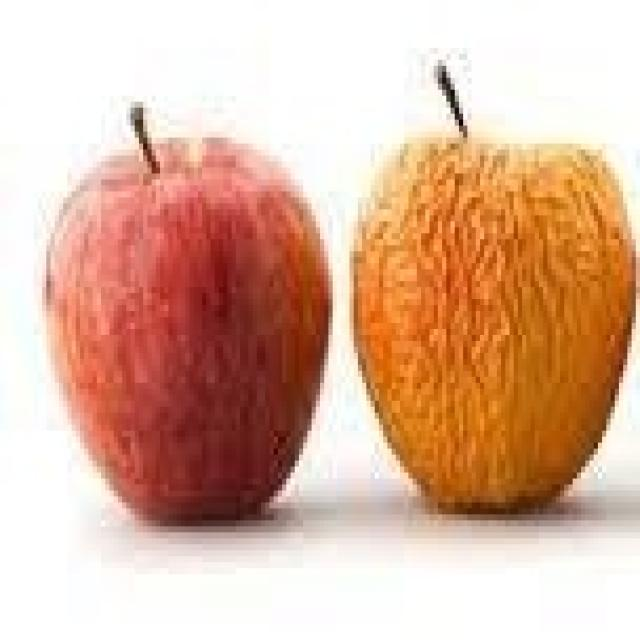overripe: (42, 130, 336, 528), (344, 114, 636, 513)
